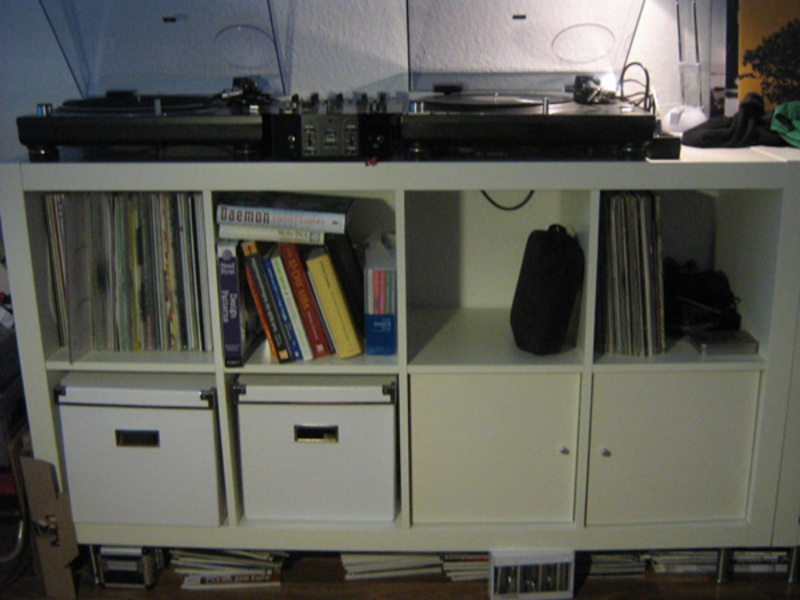book: (232, 232, 361, 360), (210, 195, 356, 247)
